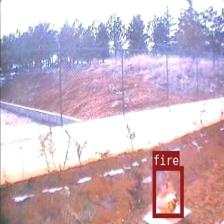fire: (152, 166, 183, 216)
